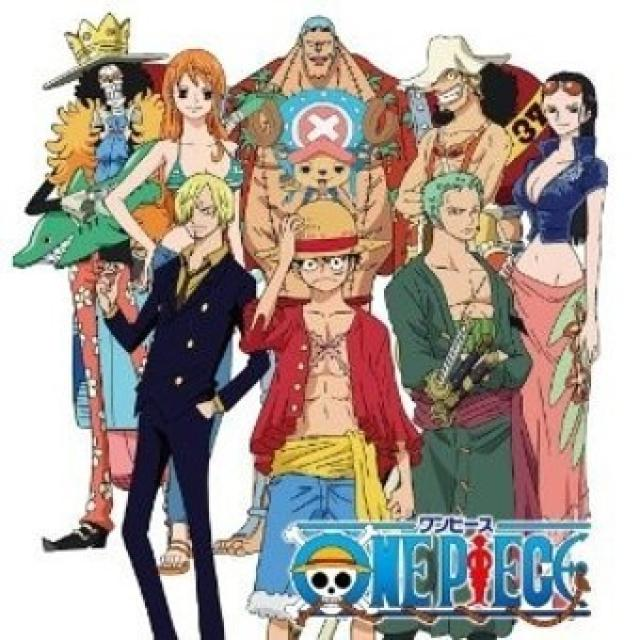Blook: (68, 24, 156, 122)
Chyopa: (248, 89, 399, 203)
Franky: (291, 19, 351, 81)
Luffy: (264, 187, 388, 292)
Nami: (162, 38, 232, 132)
NicoRobin: (518, 68, 602, 160)
Sangdi: (174, 167, 236, 245)
Usopp: (402, 22, 502, 120)
Zoro: (413, 168, 499, 244)
